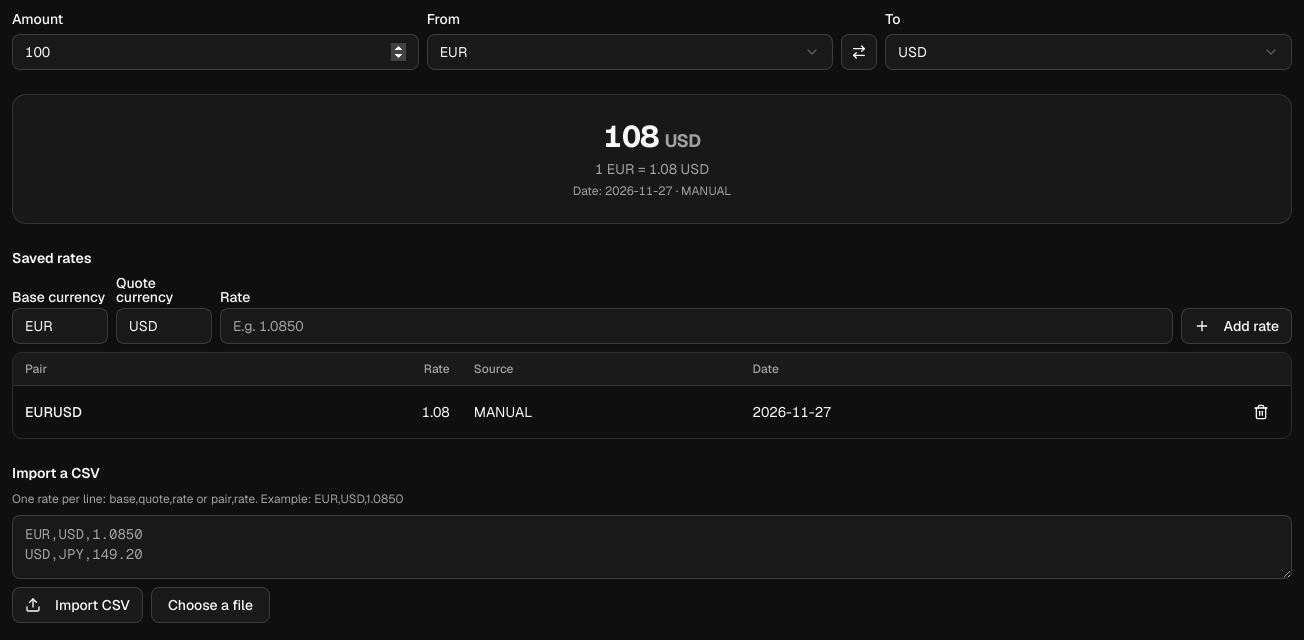
Test: CurrencyConverter component › swap inverts the conversion through the stored pair
Click the button named "Swap currencies".
click(859, 52)  # box x1=841 y1=34 x2=877 y2=70
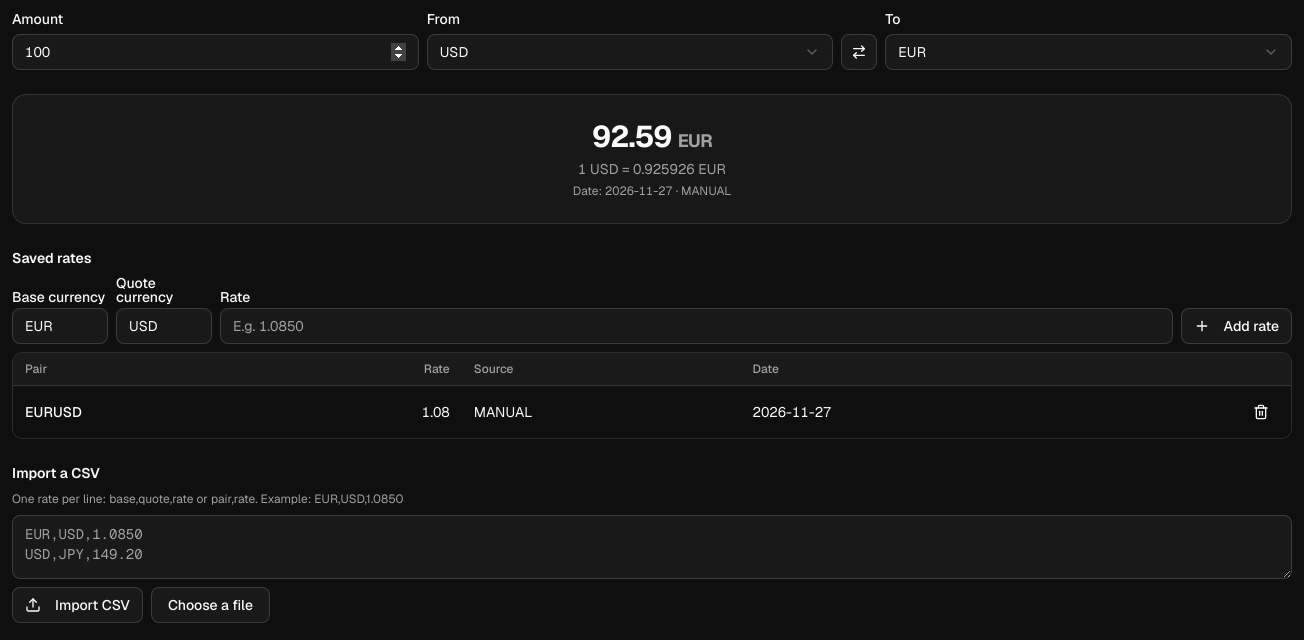
Expected: the text "92.59" is shown, x1=592 y1=117 x2=672 y2=156
Expected: the text "1 USD = 0.925926 EUR" is shown, x1=578 y1=160 x2=726 y2=178
